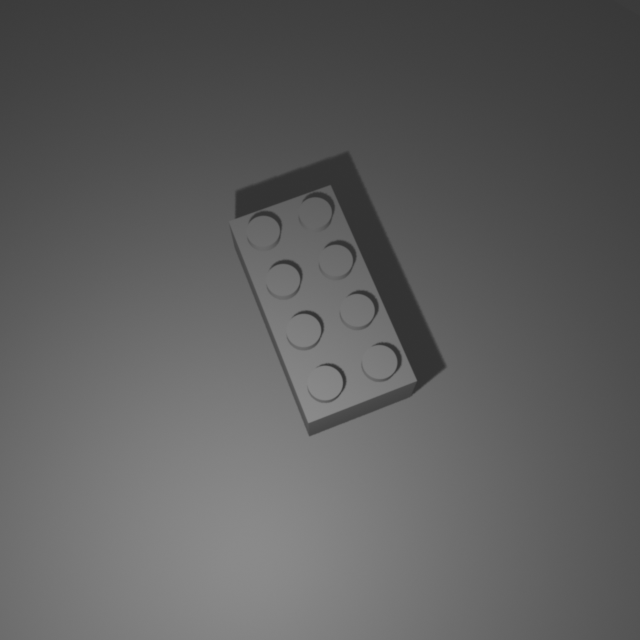lego_2x4: (227, 180, 418, 436)
